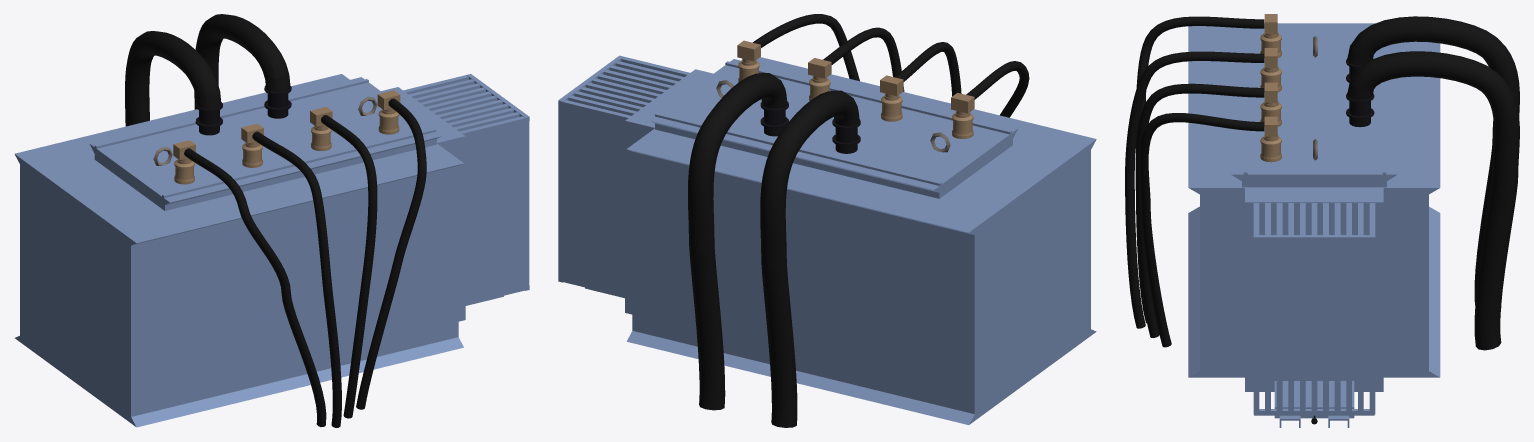
Rendered from transformer.glb.
3 renders of one model, left to right at view 1: azimuth 30°, elevation 25°; view 2: azimuth 150°, elevation 25°; view 3: azimuth 270°, elevation 25°, orthographic. The views are drawn at different scales.
Visible parts, largest first — view 1: body; view 2: body; view 3: body.
Boxes of the visible parts, x1,y1,x2,y2 form: body: (14, 14, 529, 427); body: (558, 14, 1096, 427); body: (1125, 14, 1519, 427).
Bounding box in the file's own units: 6.95 × 4.5 × 5.38.
